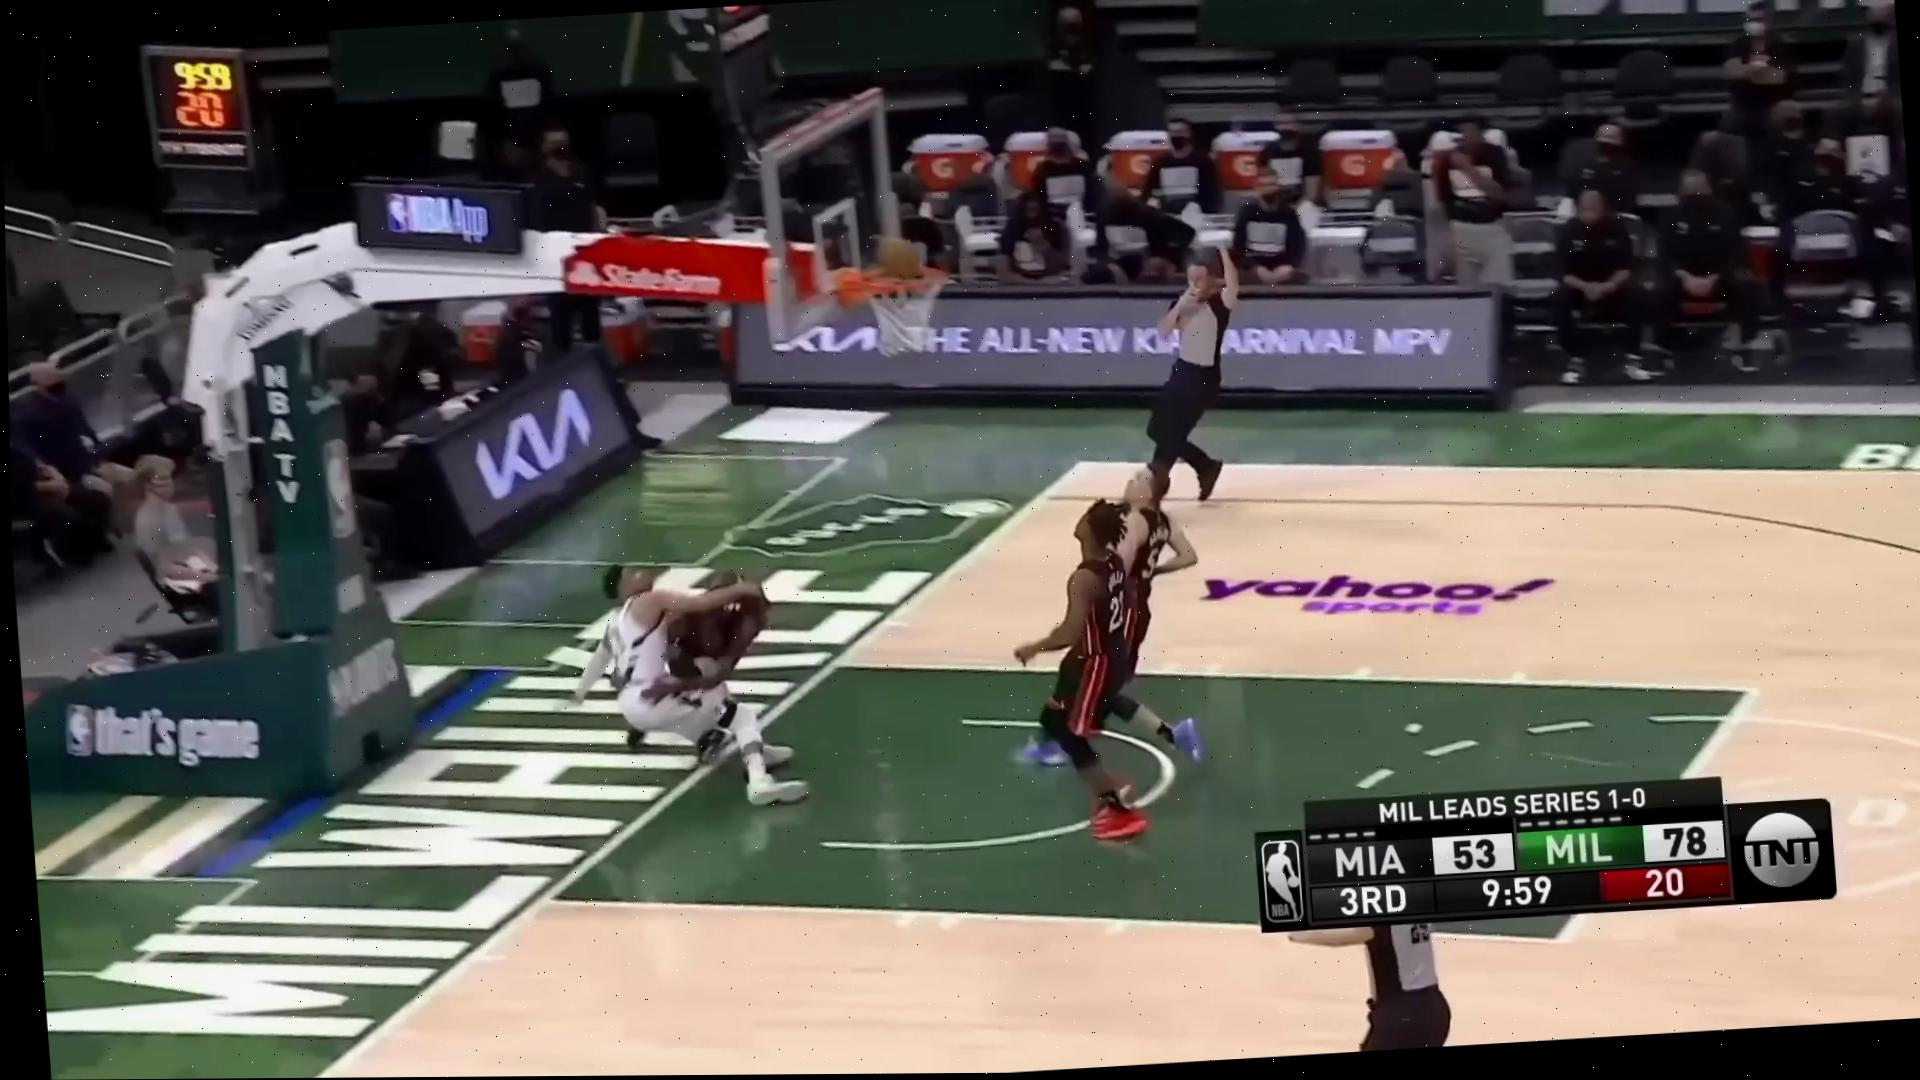foul: (542, 498, 832, 832)
